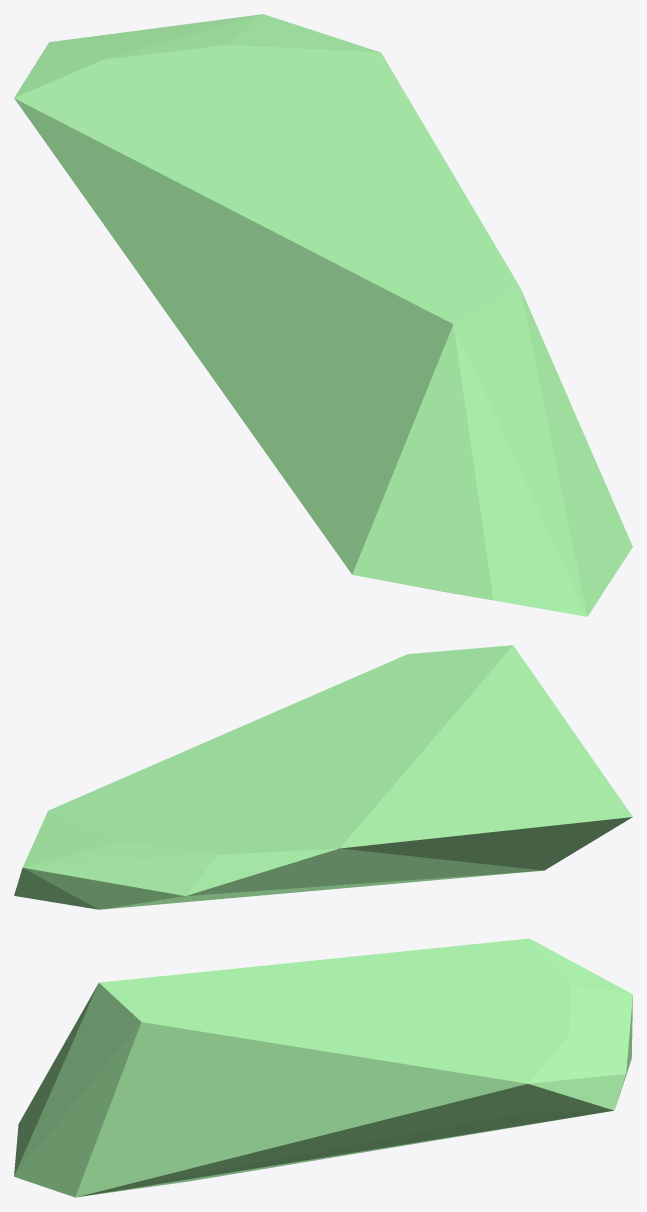
Rendered from UMIRobot_UMIRobot_link_3_convex_coll_4.dae.
3 renders of one model, top to bottom at view 1: azimuth 30°, elevation 25°; view 2: azimuth 150°, elevation 25°; view 3: azimuth 270°, elevation 25°, orthographic. The views are drawn at different scales.
Parts seen in each view (by area): view 1: node; view 2: node; view 3: node.
Boxes of the visible parts, x1,y1,x2,y2 form: node: (14,14,632,616); node: (14,645,632,909); node: (14,938,632,1197).
Bounding box in the file's own units: 0.0203 × 0.0144 × 0.0437.
